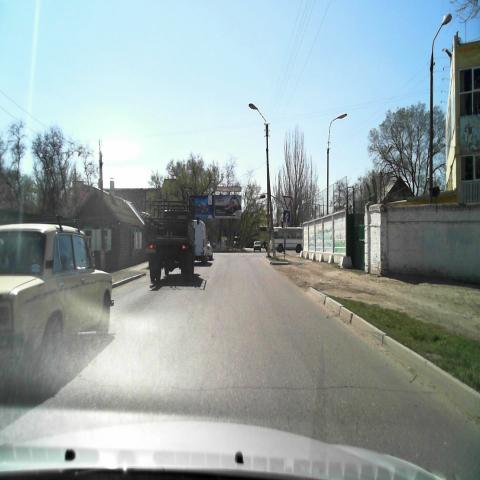5_6: (283, 209, 290, 223)
